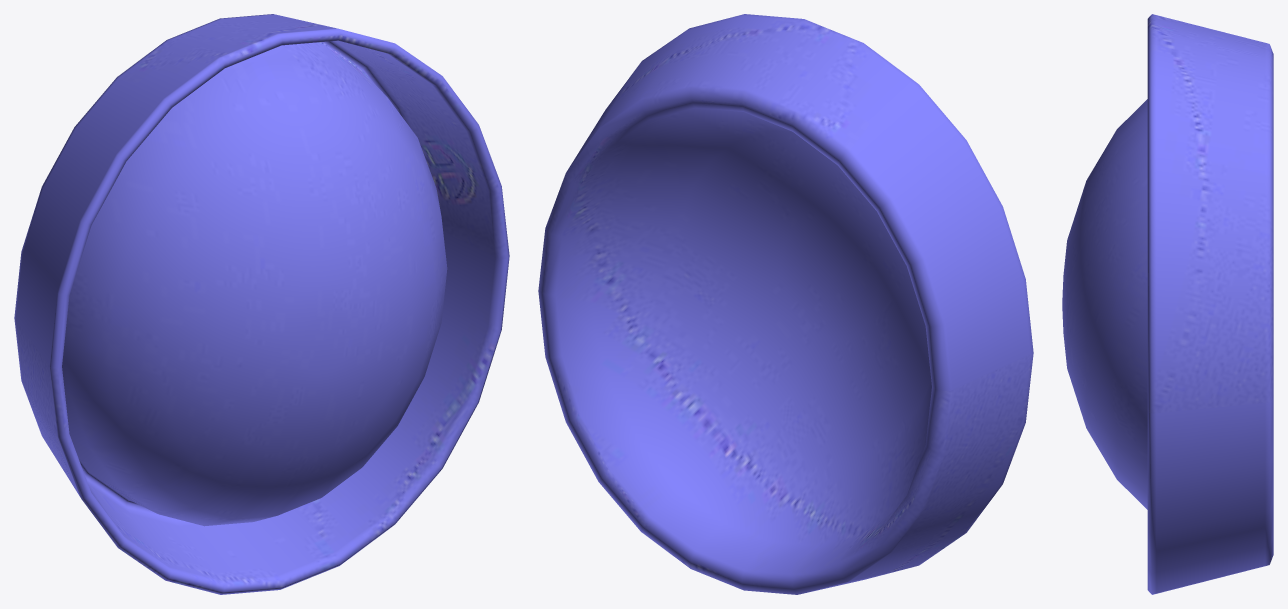
File: Headwear21.glb
3 views of the same model, side by side, from view 1: azimuth 30°, elevation 25°; view 2: azimuth 150°, elevation 25°; view 3: azimuth 270°, elevation 25° (orthographic). The views are drawn at different scales.
Parts seen in each view (by area): view 1: Headwear21; view 2: Headwear21; view 3: Headwear21.
Part boxes in pixels (x1,y1,x2,y2): Headwear21: (14, 14, 509, 594); Headwear21: (538, 14, 1033, 594); Headwear21: (1062, 14, 1273, 594).
Bounding box in the file's own units: 2.02 × 2.34 × 0.8255.
Materials: 1 (1 with a texture image).
